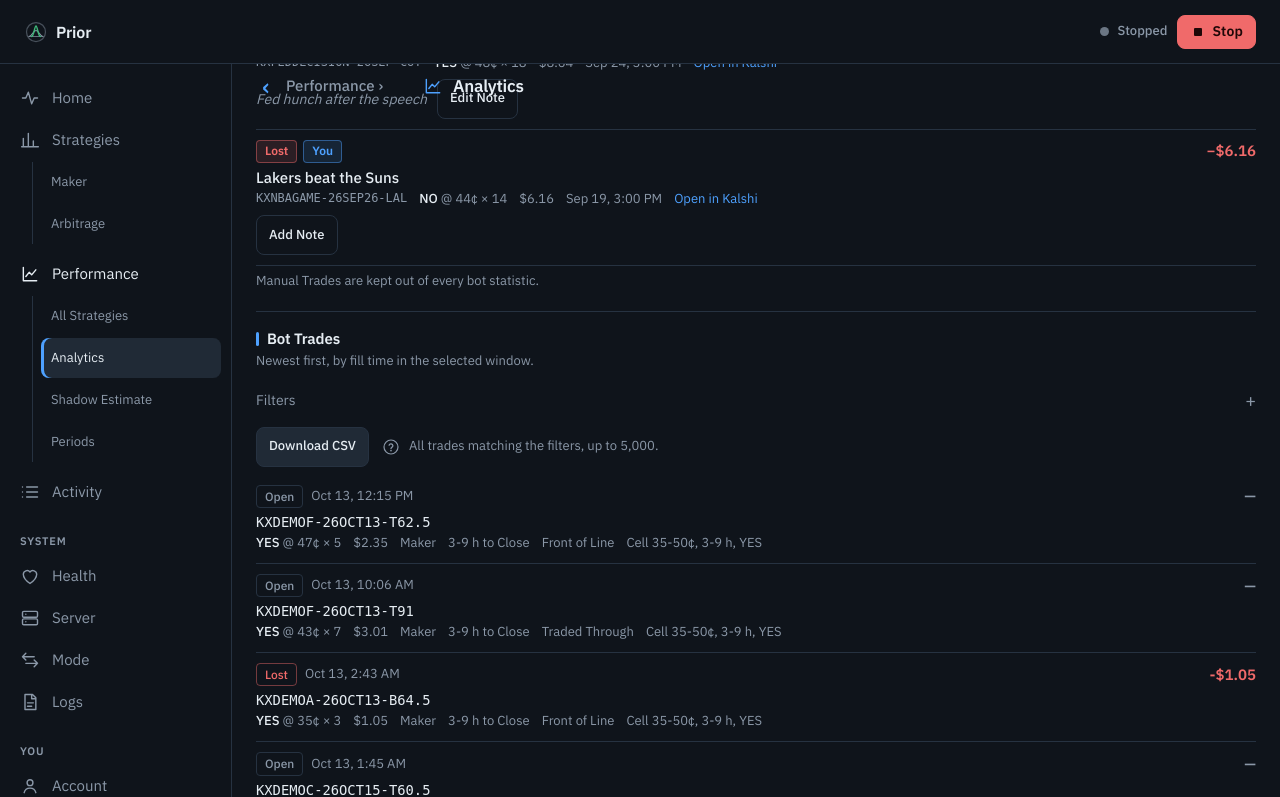
Test case: CSV download (item 7) › fetches trades.csv with auth and the current filters (no limit/offset) and saves the file
The image size is (1280, 797).
(page scrolled)
Click the heading "Filters" at (276, 400), box [256, 392, 296, 410]
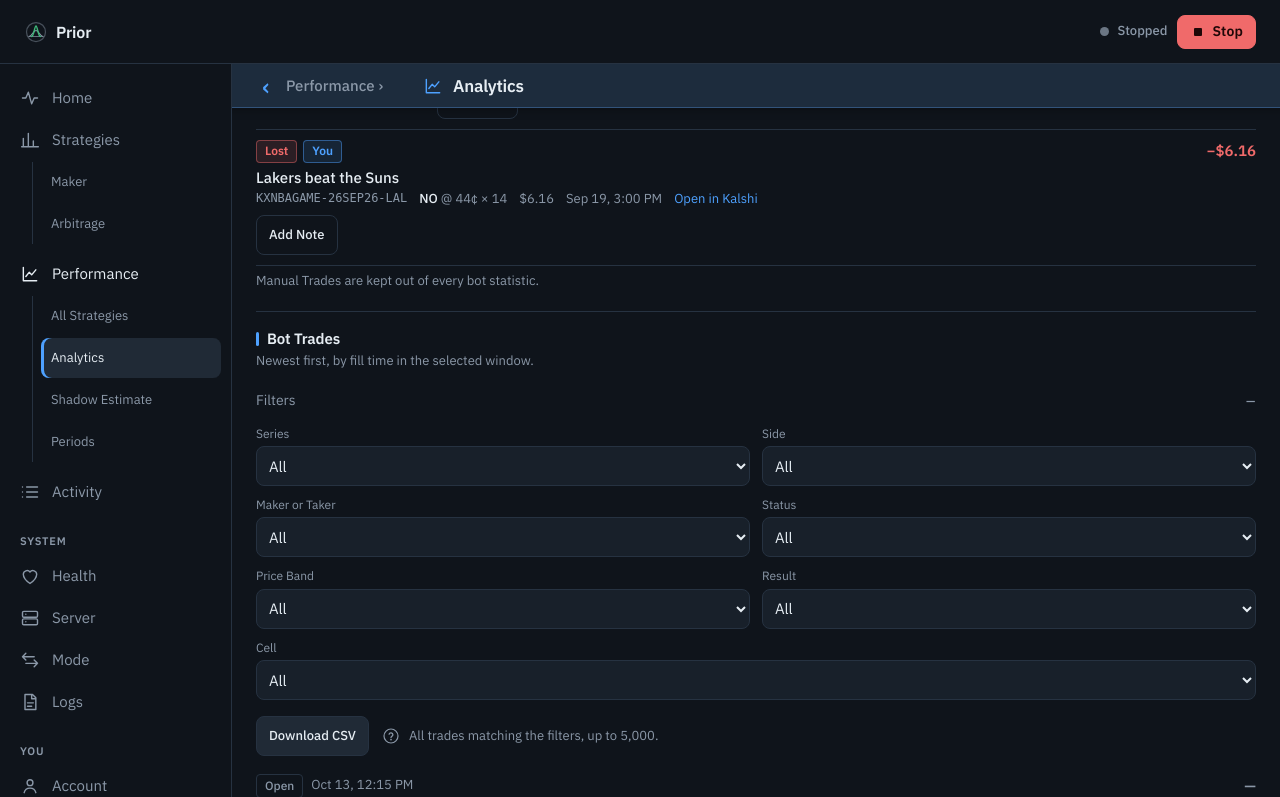
Select "Lost" in the dropdown labelled "Result" at (1009, 609), box [762, 589, 1256, 629]
(page scrolled)
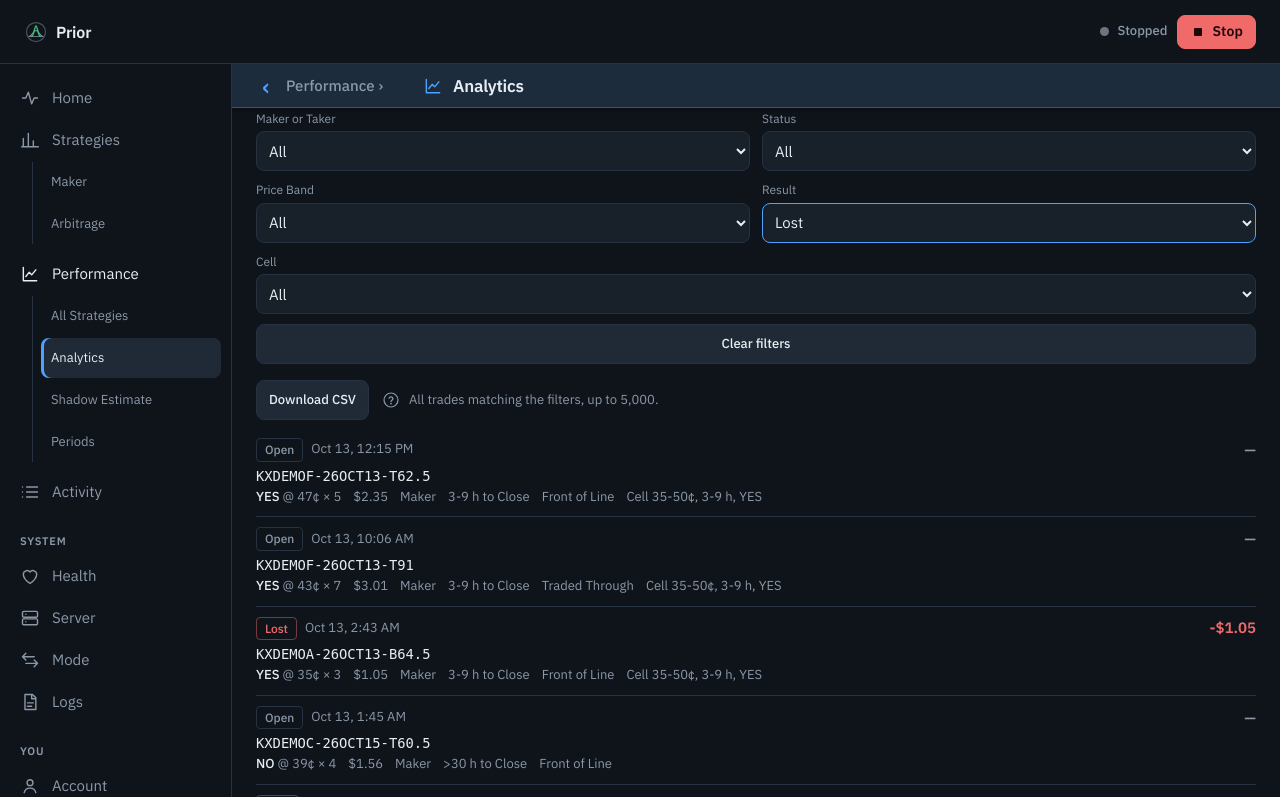
Click the button "Download CSV" at (312, 400), box [256, 380, 369, 420]
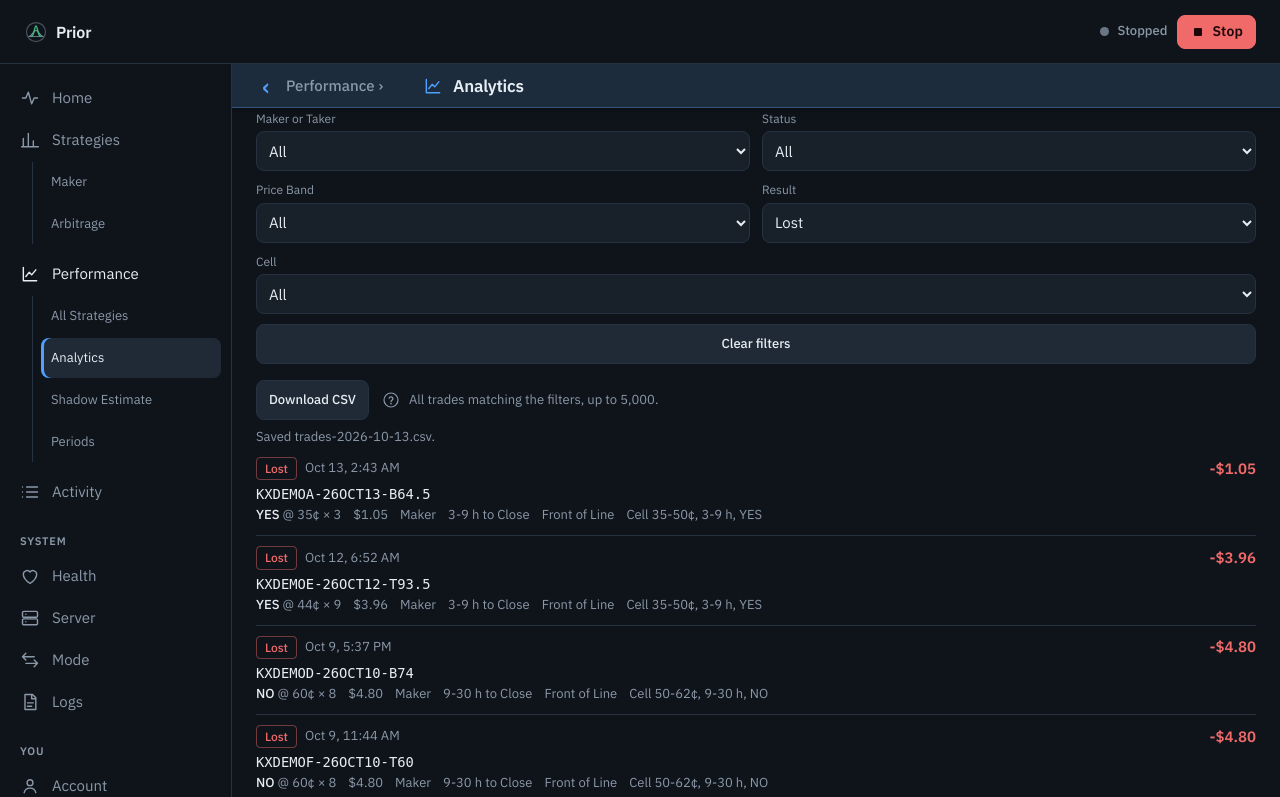
Check: the text "Saved trades-2026-10-13.csv." is shown, box [256, 428, 435, 445]
